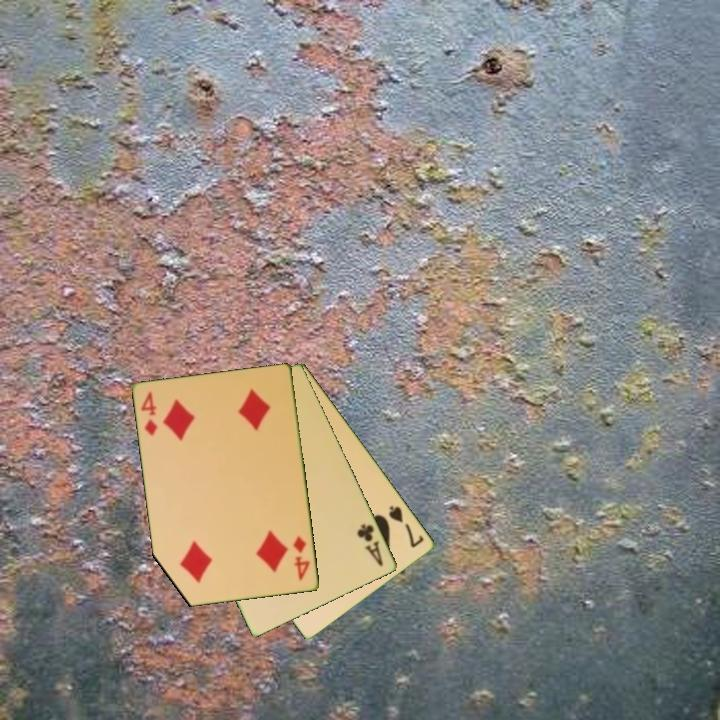4d: (290, 533, 313, 584), (138, 388, 161, 439)
7s: (385, 502, 427, 551)
Ac: (354, 520, 386, 569)
